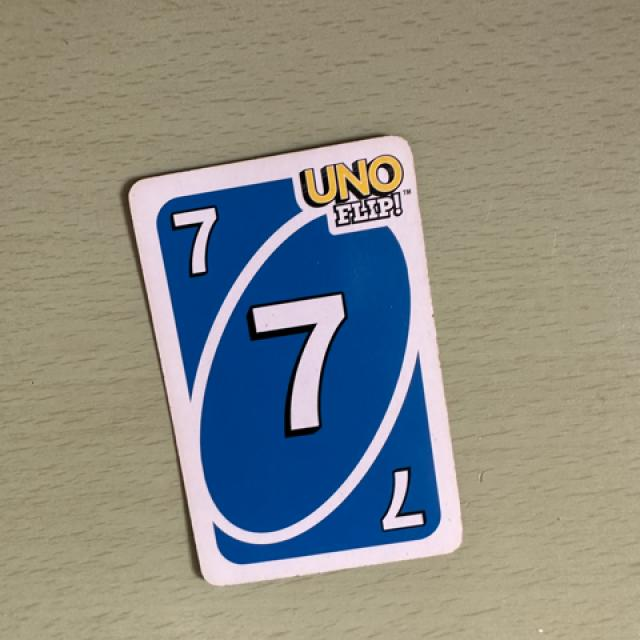lblue-7: (157, 189, 250, 296)
